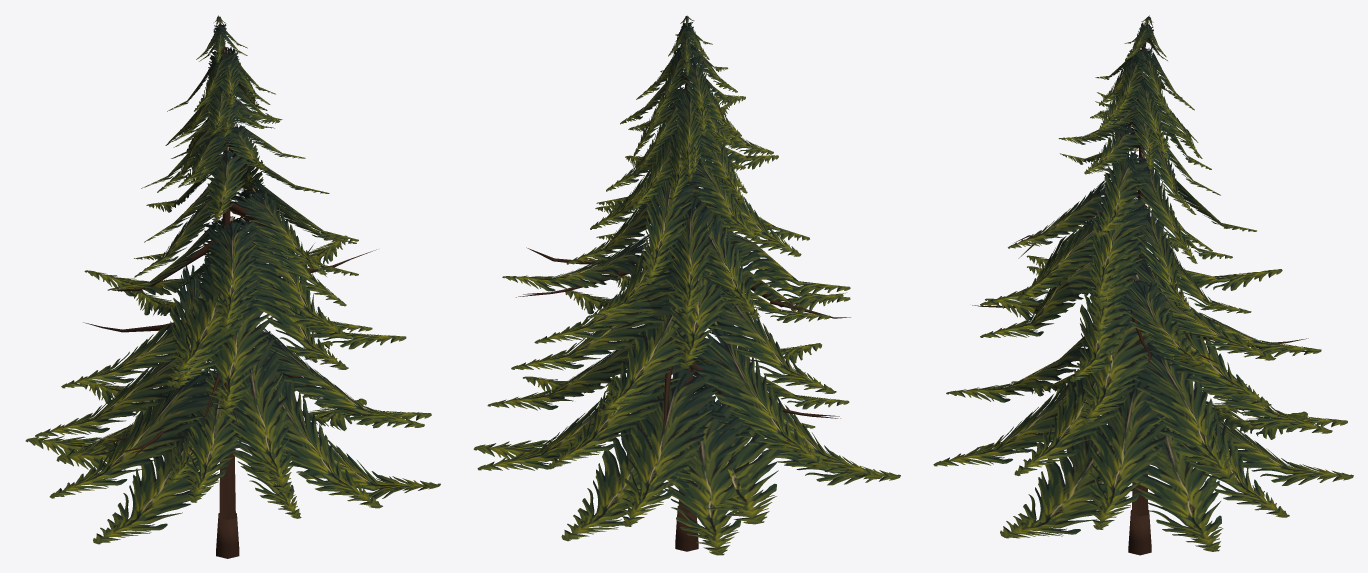
Rendered from Tree2.fbx.
3 renders of one model, left to right at view 1: azimuth 30°, elevation 25°; view 2: azimuth 150°, elevation 25°; view 3: azimuth 270°, elevation 25°, orthographic.
Parts seen in each view (by area): view 1: Leaves, Leaves1, Trunk.002, Leaves2; view 2: Leaves, Leaves1, Trunk.002, Leaves2; view 3: Leaves, Leaves1, Trunk.002, Leaves2.
Boxes of the visible parts, left/top/right/bottom form: Leaves: left=35, top=16, right=440, bottom=544; Leaves1: left=25, top=51, right=358, bottom=454; Trunk.002: left=83, top=15, right=376, bottom=558; Leaves2: left=167, top=98, right=279, bottom=386; Leaves: left=473, top=16, right=900, bottom=541; Leaves1: left=596, top=45, right=850, bottom=555; Trunk.002: left=516, top=15, right=850, bottom=551; Leaves2: left=633, top=88, right=830, bottom=322; Leaves: left=933, top=16, right=1353, bottom=551; Leaves1: left=980, top=52, right=1307, bottom=439; Trunk.002: left=972, top=15, right=1318, bottom=555; Leaves2: left=1078, top=98, right=1220, bottom=294.
Bounding box in the file's own units: 1696 × 2341 × 1690.
